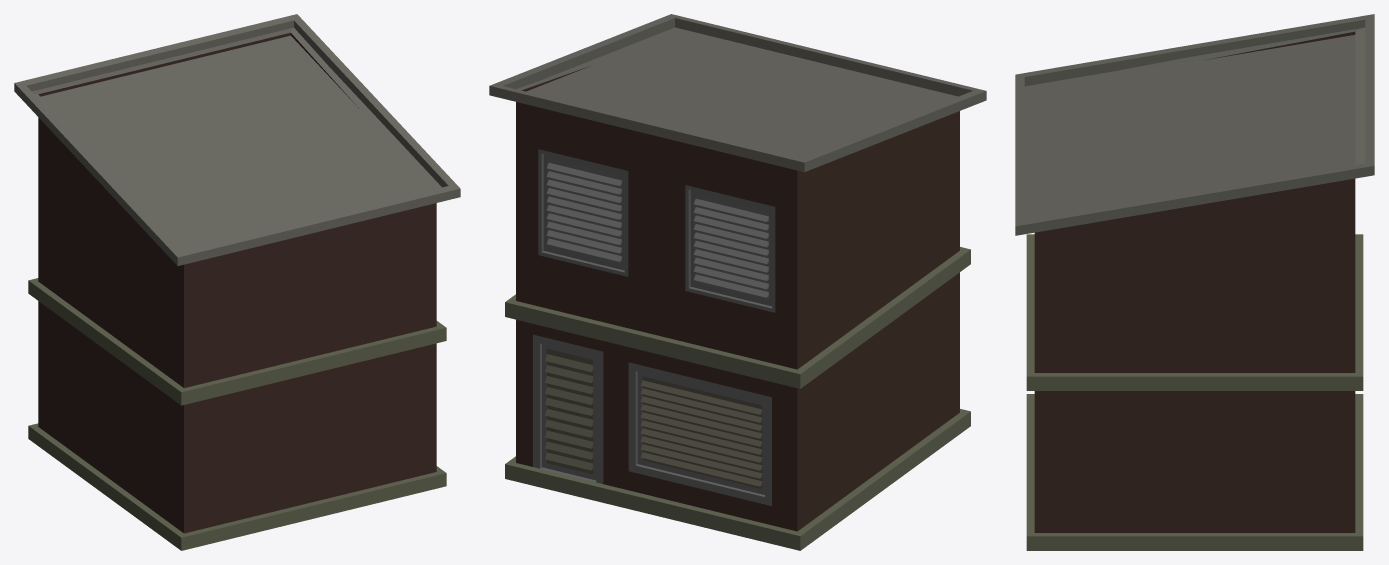
Rendered from SHOP1.fbx.
3 renders of one model, left to right at view 1: azimuth 30°, elevation 25°; view 2: azimuth 150°, elevation 25°; view 3: azimuth 270°, elevation 25°, orthographic. The views are drawn at different scales.
Visible parts, largest first — view 1: building_001; view 2: building_001; view 3: building_001.
Part boxes in pixels (left/top/right/bottom): building_001: left=14, top=14, right=460, bottom=550; building_001: left=489, top=14, right=986, bottom=550; building_001: left=1015, top=14, right=1374, bottom=550.
Size of the model in its own units: 448 by 536 by 448.
